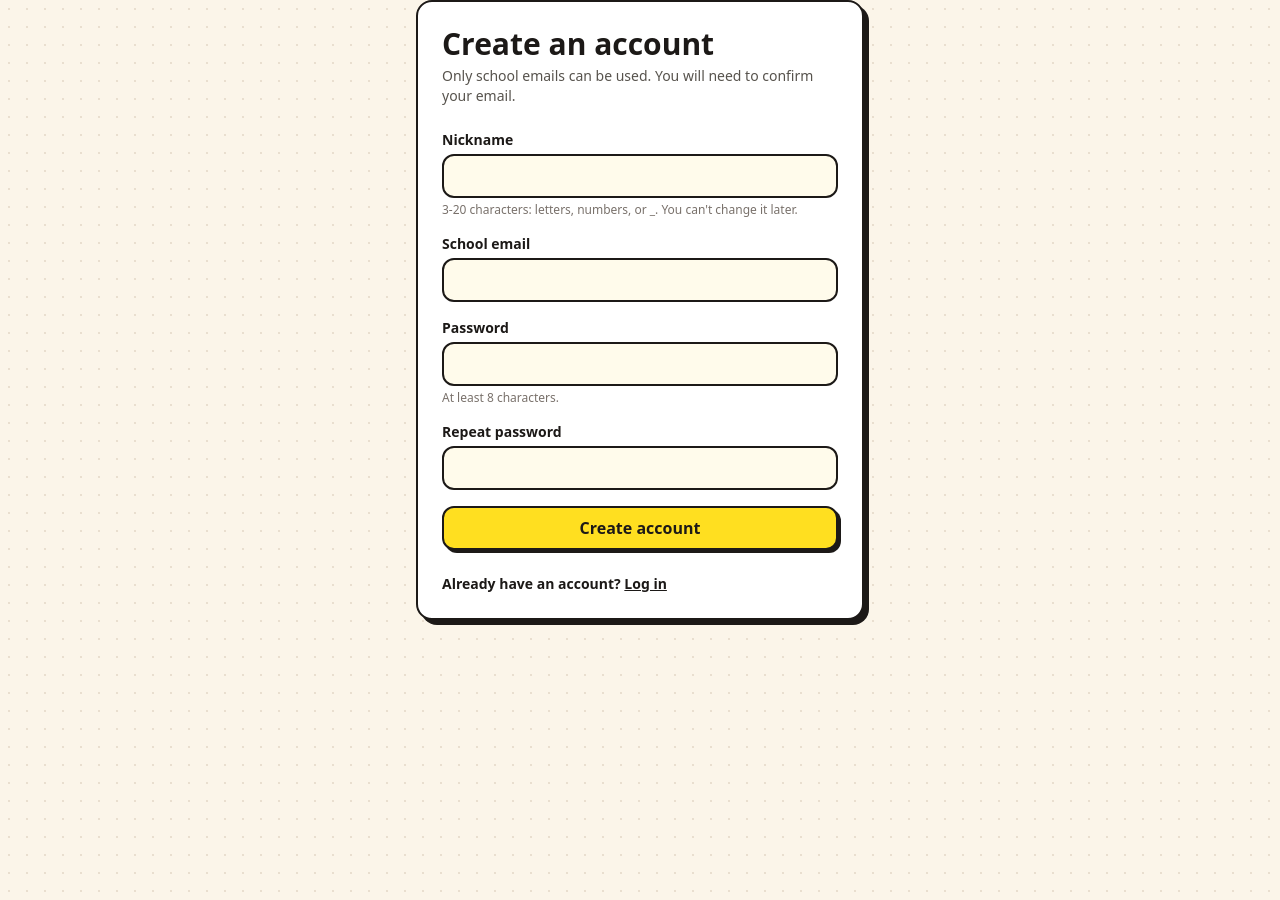
Test: RegisterPage › shows the check-your-inbox screen after sign-up
Step 1. Type "alice" into the field labelled "Nickname" → (640, 176), box [442, 154, 838, 198]
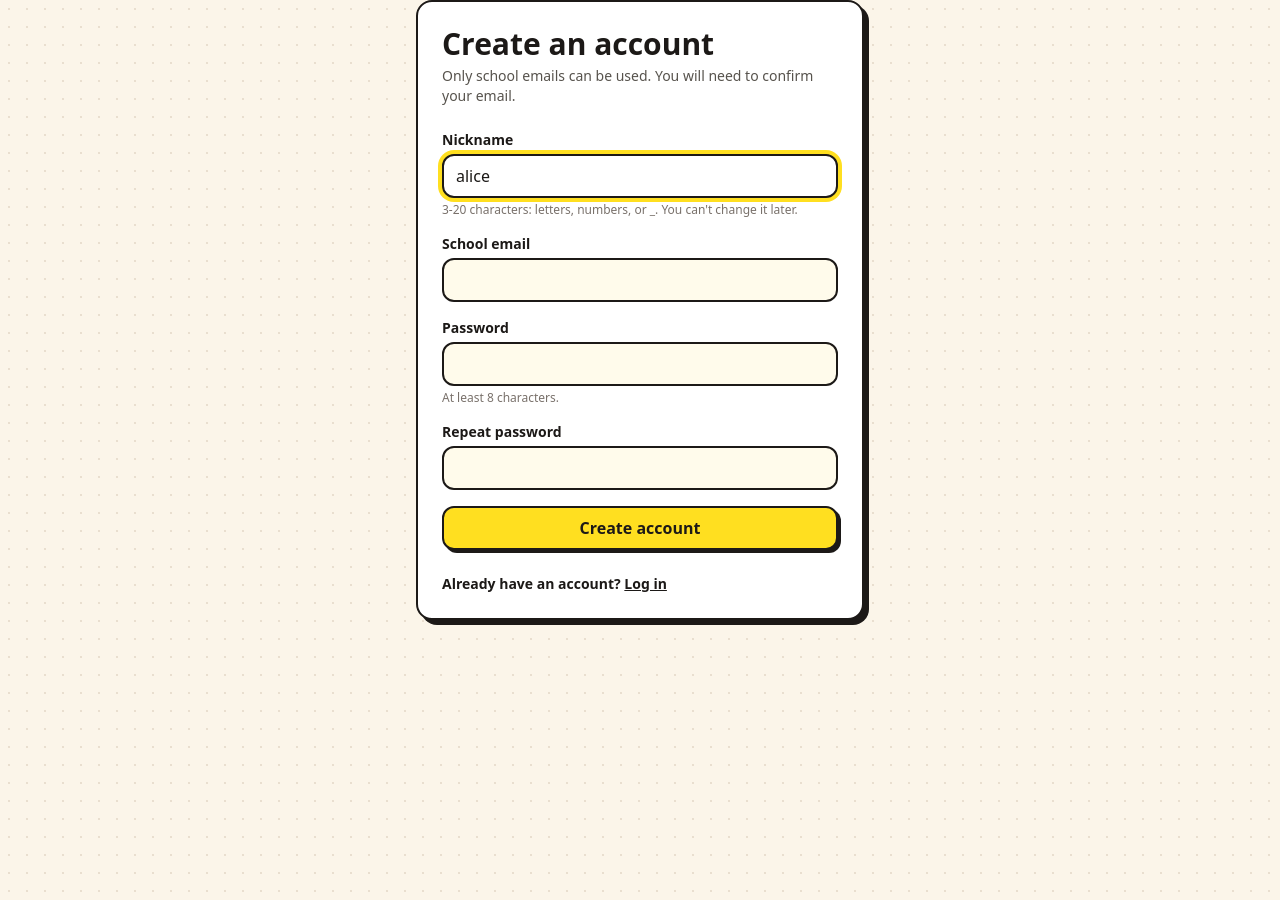
Step 2. Type "alice@example.edu" into the field labelled "School email" → (640, 280), box [442, 258, 838, 302]
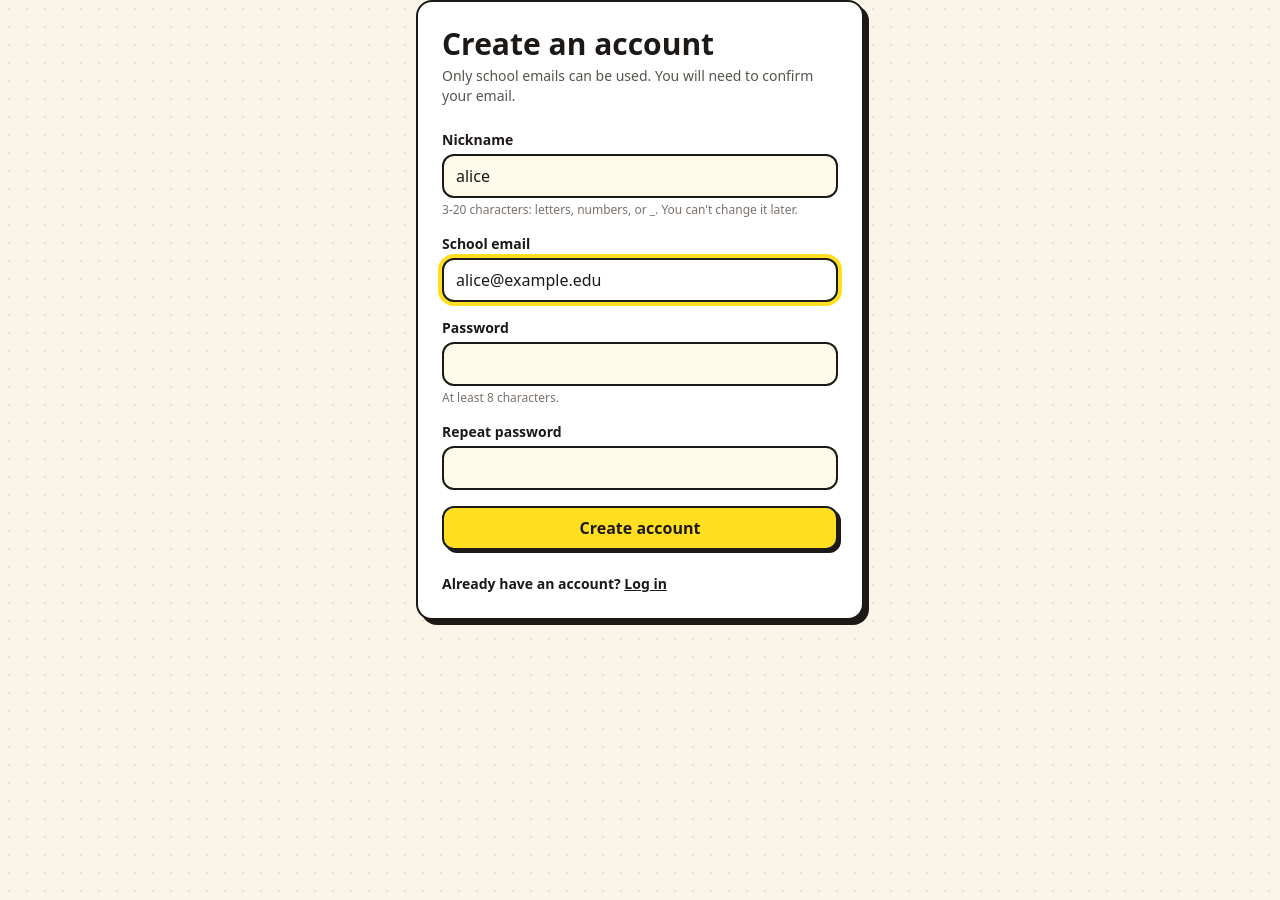
Step 3. Type "password1" into the password field labelled "Password" → (640, 364), box [442, 342, 838, 386]
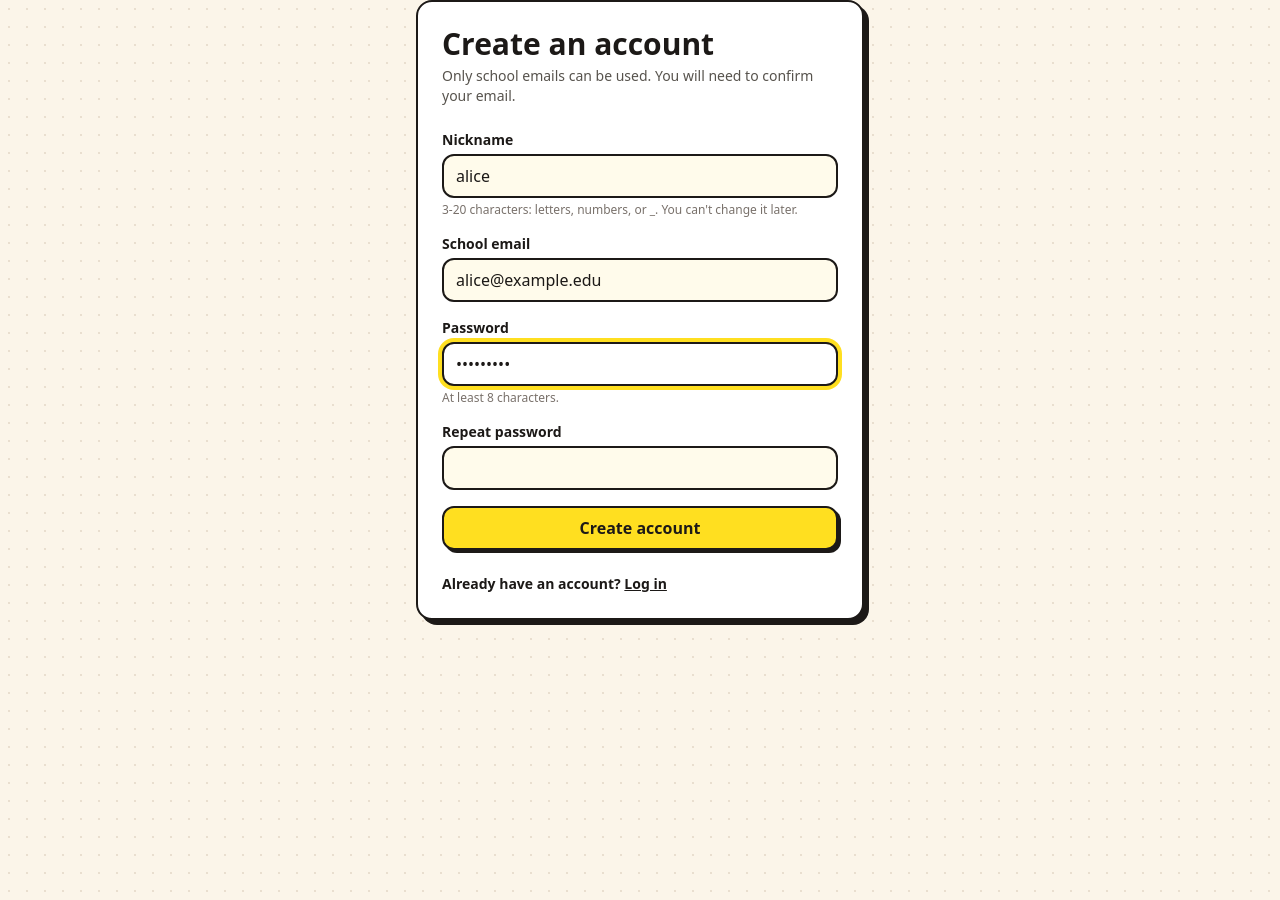
Step 4. Type "password1" into the password field labelled "Repeat password" → (640, 468), box [442, 446, 838, 490]
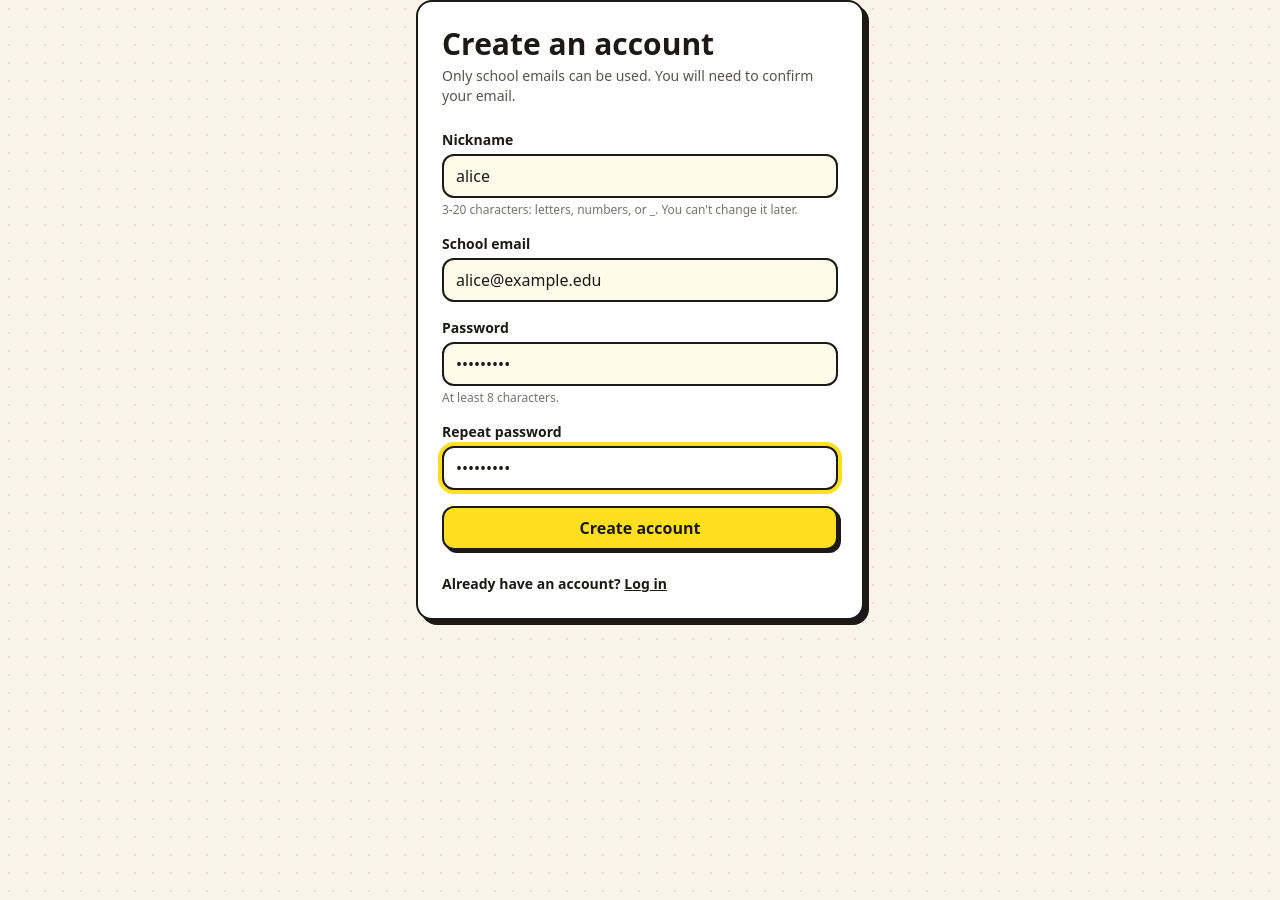
Step 5. Click the button "Create account" → (640, 528), box [442, 506, 838, 550]
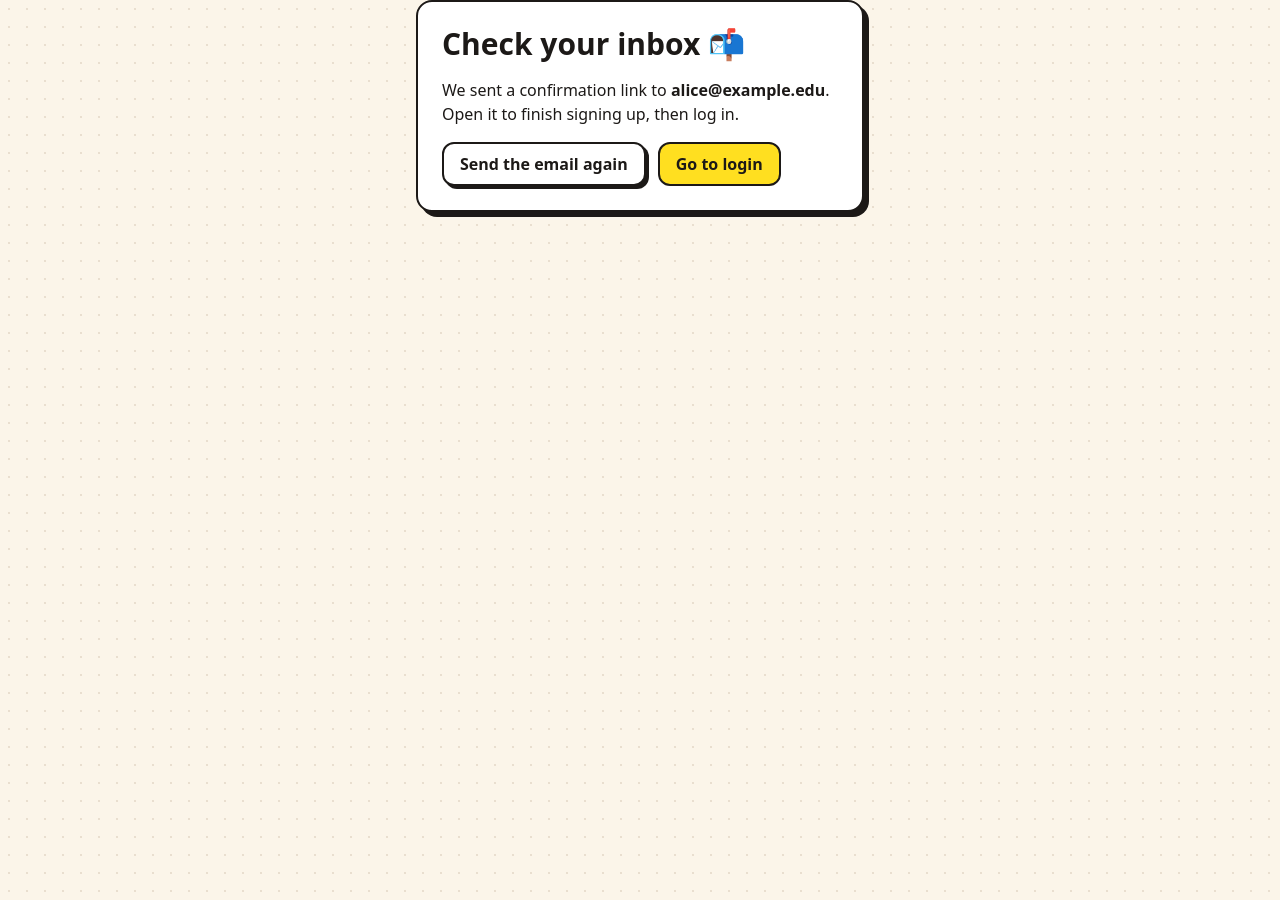
Result: the heading "Check your inbox 📬" is shown at [442, 23, 746, 64]
Result: the text "alice@example.edu" is shown at [671, 79, 825, 101]
